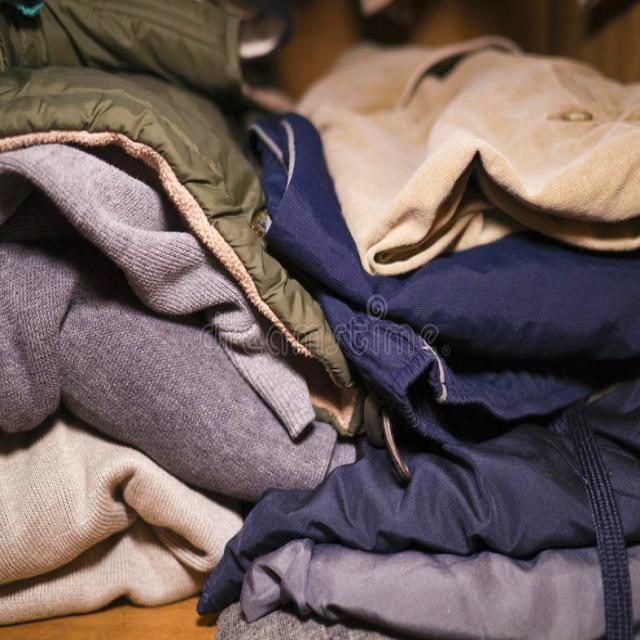clothes: (28, 66, 636, 621)
